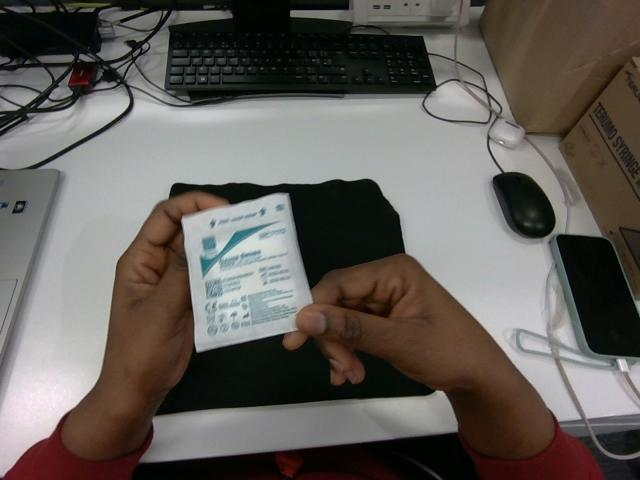gauze: (182, 194, 311, 351)
